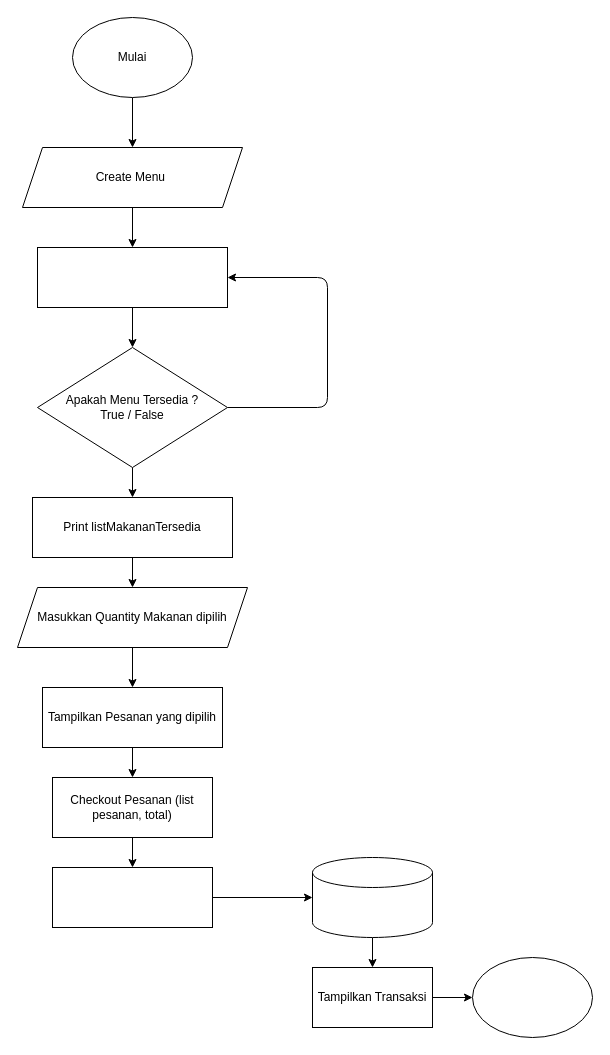
This 610x1055 diagram has some shape labels left out. The box of each missing label's shape, as (x1, y1, x2, y2) in pixels:
Data masuk ke database: (312, 856, 432, 938)
Pembayaran (total, list Pesanan, metode pembayaran): (52, 866, 212, 928)
Read List menu makanan (id, nama, stok, harga): (36, 246, 228, 308)
Selesai: (472, 956, 592, 1038)
